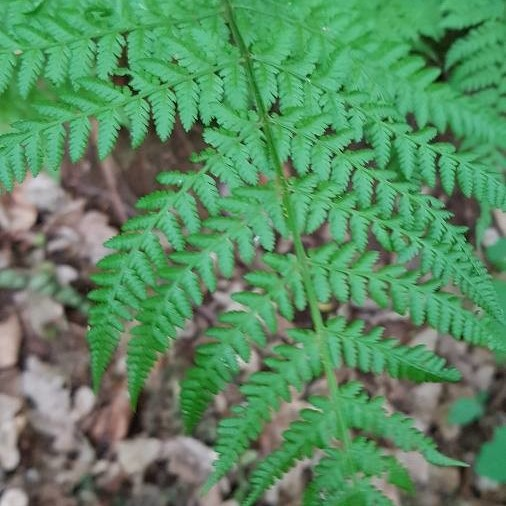obstacle: (37, 26, 484, 492)
